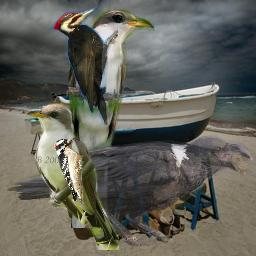Crow: (4, 133, 254, 249)
Cuckoo: (66, 8, 155, 228), (26, 102, 119, 250)
Woodpecker: (49, 7, 118, 125), (54, 137, 84, 204)
